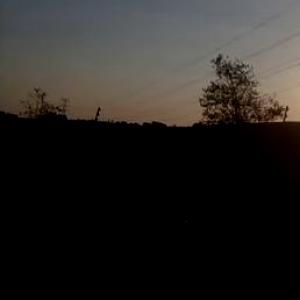follow: (140, 141, 210, 299)
